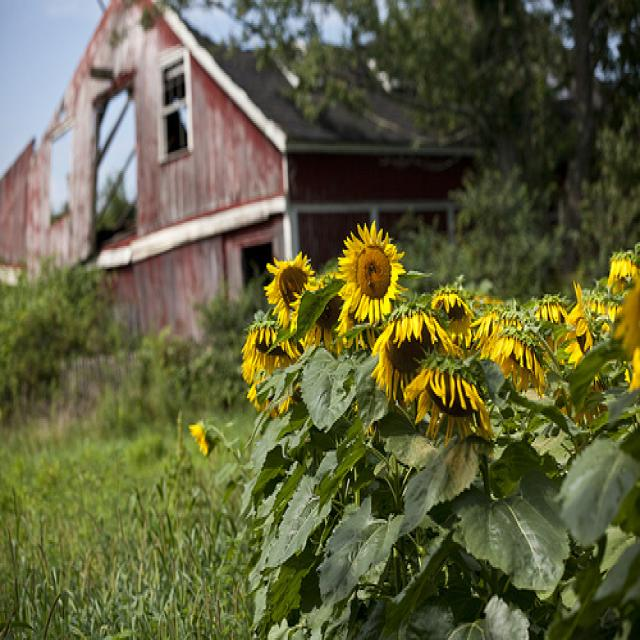sunflower: (331, 218, 408, 316), (422, 352, 495, 449), (378, 302, 457, 390), (263, 252, 326, 330), (493, 324, 553, 393)
